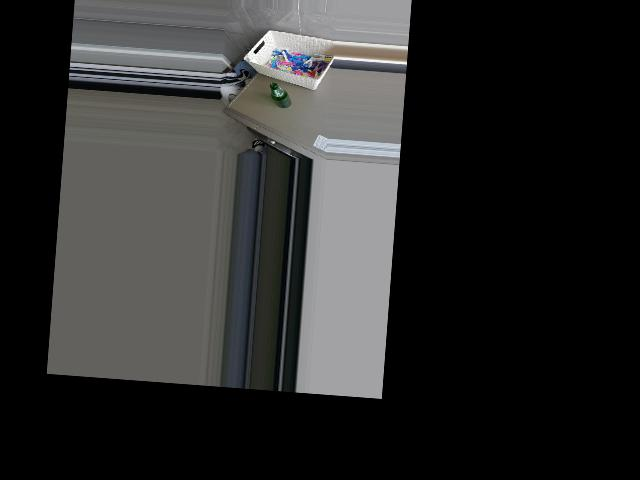beer: (267, 83, 291, 109)
